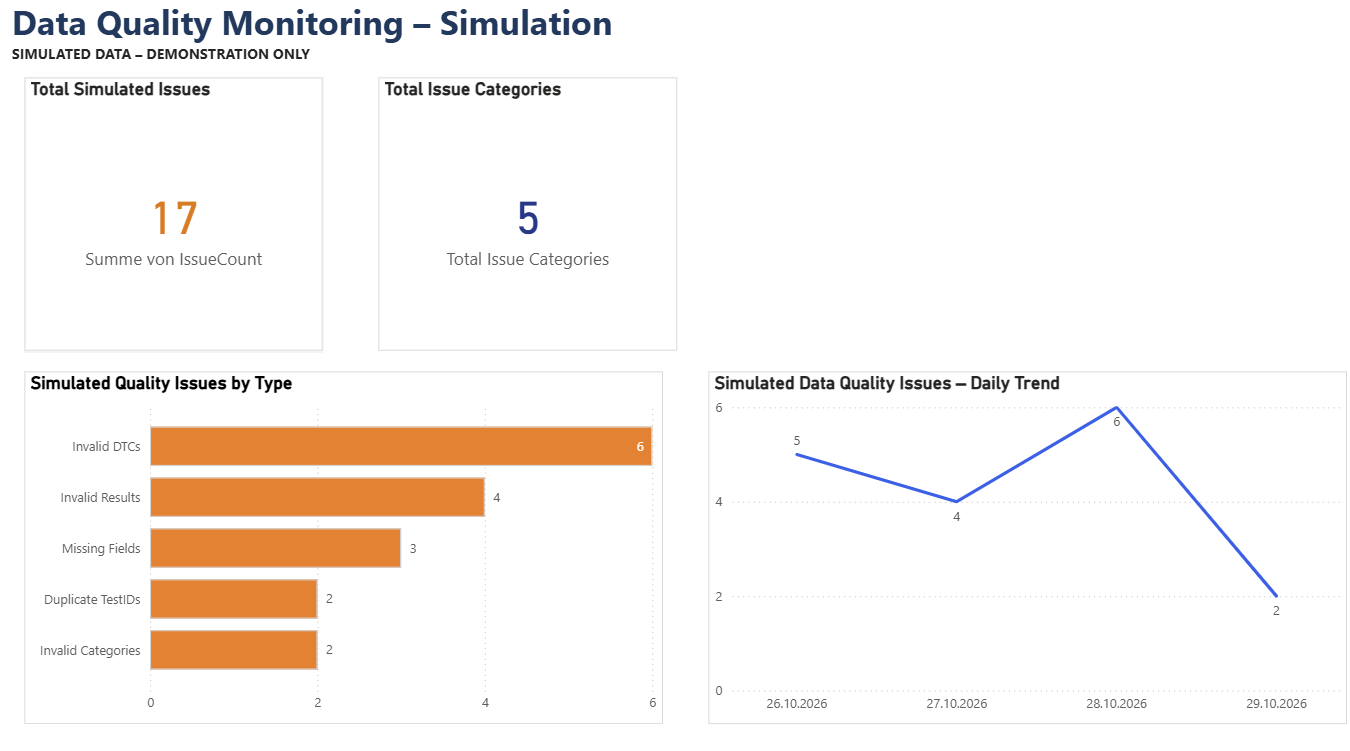

The dashboard page shown, as its layout file describes it:
{"tool":"powerbi","page":{"name":"Data Quality - Simulation","canvas":[1280,720],"ordinal":1},"visuals":[{"type":"textbox","box":[9.5,0,612,126.8],"z":0},{"type":"card","title":"Total Simulated Issues","fields":{"Values":["Sum(vw_simulated_data_quality_issues.IssueCount)"]},"box":[27,80.9,280.6,256.8],"z":1},{"type":"card","title":"Total Issue Categories","fields":{"Values":["vw_simulated_data_quality_issues.Total Issue Categories"]},"box":[359.9,80.9,280.6,256.8],"z":2},{"type":"clusteredBarChart","title":"Simulated Quality Issues by Type","fields":{"Category":["vw_simulated_data_quality_issues.IssueType"],"Y":["Sum(vw_simulated_data_quality_issues.IssueCount)"]},"box":[27,356.7,600,331],"z":3},{"type":"lineChart","title":"Simulated Data Quality Issues – Daily Trend","fields":{"Y":["Sum(vw_simulated_data_quality_issues.IssueCount)"],"Category":["vw_simulated_data_quality_issues.CheckDate"]},"box":[669.1,356.7,600,331.4],"z":4}]}

Visuals, with their boxes in screenshot pixels (x1, y1, x2, y2), scaled from the page's 1280x720 canvas onto the 1350x751 screenshot:
textbox: select_region(10, 0, 655, 132)
"Total Simulated Issues" card: select_region(28, 84, 324, 352)
"Total Issue Categories" card: select_region(380, 84, 676, 352)
"Simulated Quality Issues by Type" clusteredBarChart: select_region(28, 372, 661, 717)
"Simulated Data Quality Issues – Daily Trend" lineChart: select_region(706, 372, 1339, 718)
